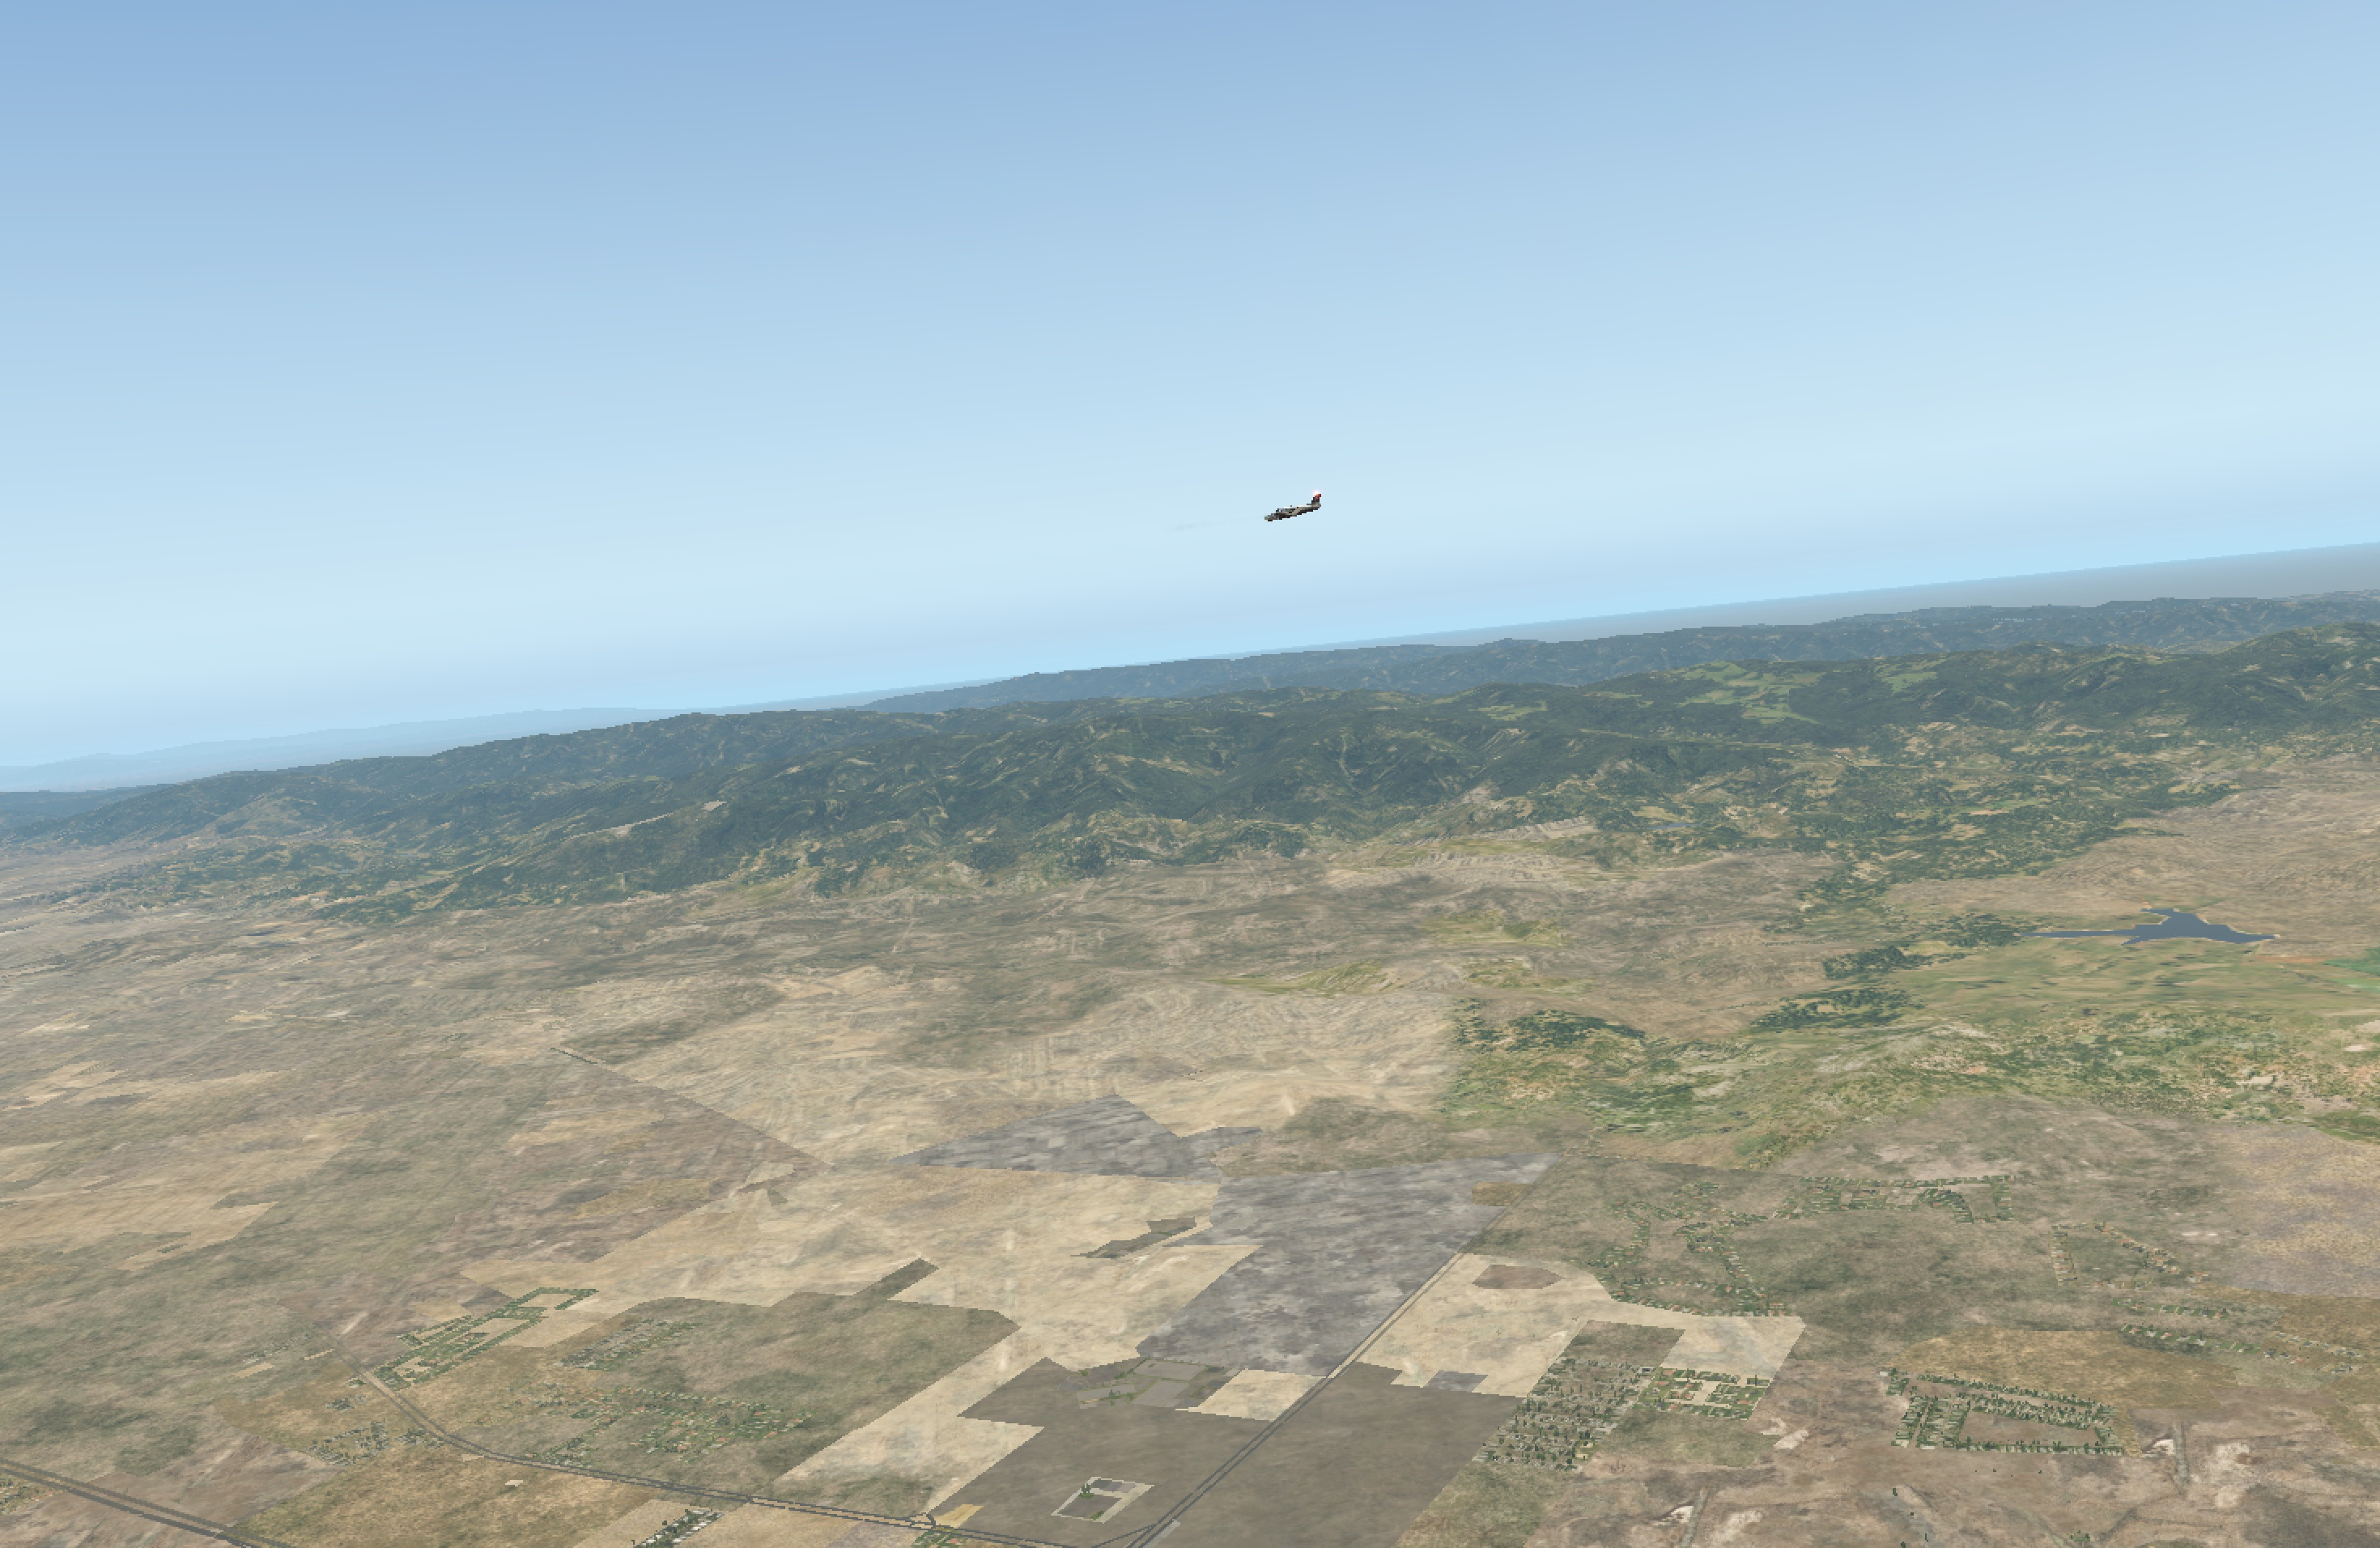aircraft: (1239, 500, 1329, 535)
